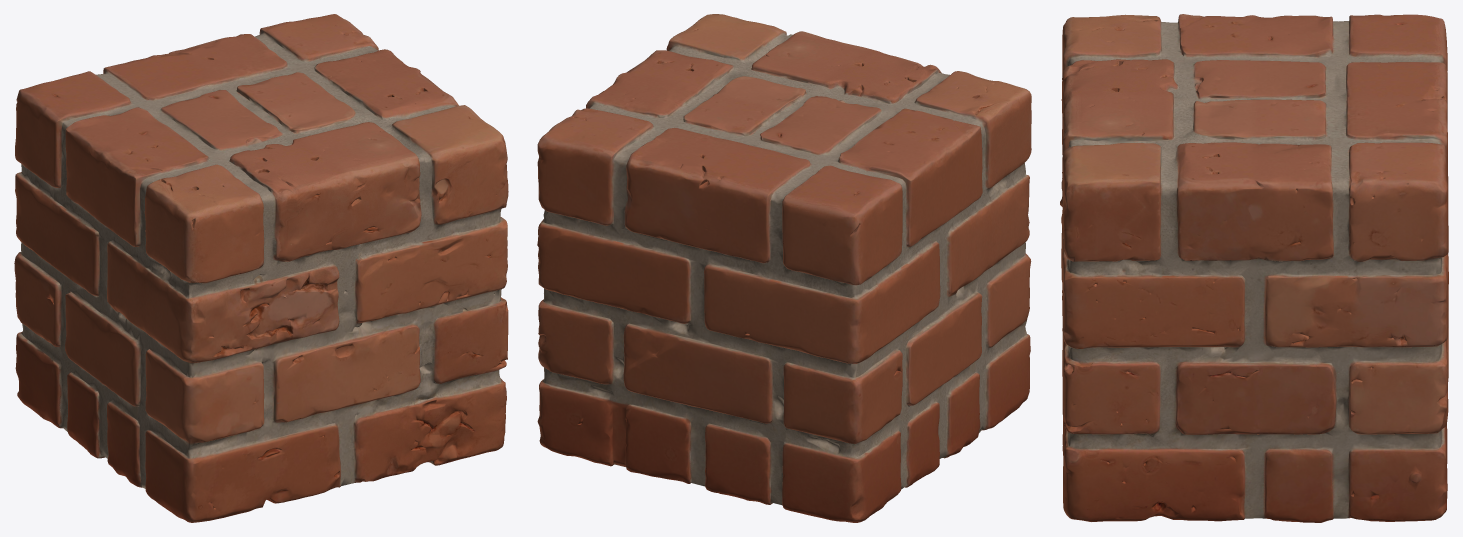
The model's file is redbricks.glb.
3 renders of one model, left to right at view 1: azimuth 30°, elevation 25°; view 2: azimuth 150°, elevation 25°; view 3: azimuth 270°, elevation 25°, orthographic. The views are drawn at different scales.
Visible parts, largest first — view 1: tripo_node_acc04e76-a217-4fdc-9508-e783ad19cb0e; view 2: tripo_node_acc04e76-a217-4fdc-9508-e783ad19cb0e; view 3: tripo_node_acc04e76-a217-4fdc-9508-e783ad19cb0e.
Part boxes in pixels (box(x1,y1,x2,y2)): tripo_node_acc04e76-a217-4fdc-9508-e783ad19cb0e: box(14, 14, 508, 522); tripo_node_acc04e76-a217-4fdc-9508-e783ad19cb0e: box(537, 14, 1031, 522); tripo_node_acc04e76-a217-4fdc-9508-e783ad19cb0e: box(1060, 14, 1448, 522).
Size of the model in its own units: 1 by 0.9332 by 0.9495.
Materials: 1 (1 with a texture image).
